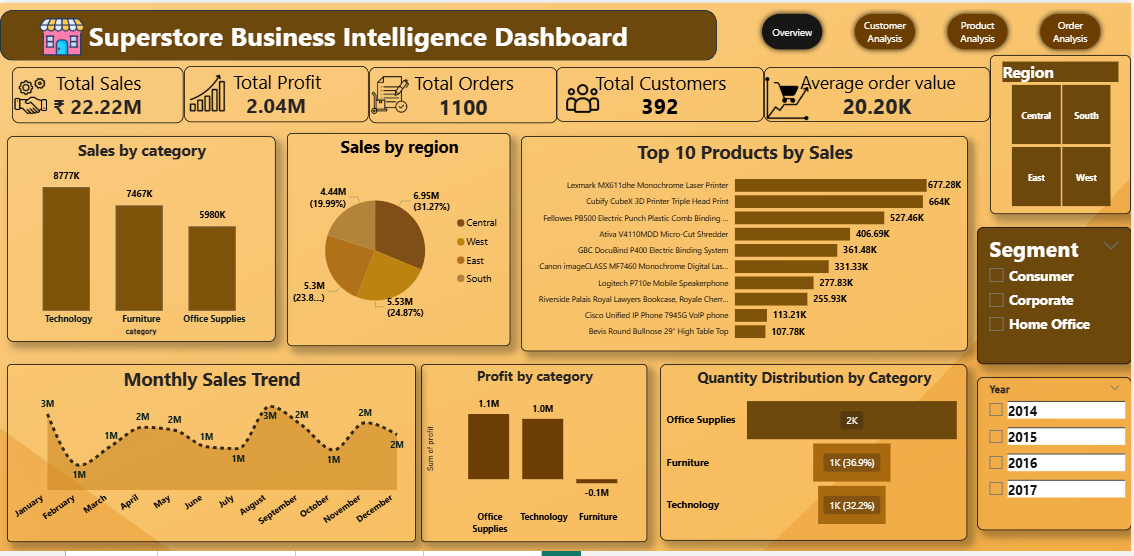

Layout of this report page (visuals, bound fields, positions):
{"tool":"powerbi","page":{"name":"Overview","canvas":[1550,750],"ordinal":0},"visuals":[{"type":"card","title":"Total Sales","fields":{"Values":["superstore orders_clean.Total_sales"]},"box":[16.7,88.3,235,76.7],"z":0},{"type":"card","title":"Total Profit","fields":{"Values":["superstore orders_clean.Total_Profit"]},"box":[251.7,86.7,253.3,76.7],"z":1000},{"type":"card","title":"Total Orders","fields":{"Values":["CountNonNull(superstore orders_clean.order_id)"]},"box":[505,88.3,258.3,76.7],"z":2000},{"type":"card","title":"Total Customers","fields":{"Values":["Count(superstore orders_clean.customer_id)"]},"box":[761.7,88.3,285,75],"z":3000},{"type":"clusteredColumnChart","title":" Sales by category","fields":{"Category":["superstore products_clean.category"],"Y":["Sum(superstore orders_clean.sales)"]},"box":[9.7,182.3,367.7,282.3],"z":4000},{"type":"lineChart","title":"Monthly Sales Trend","fields":{"Category":["superstore orders_clean.order_date.Variation.Date Hierarchy.Month"],"Y":["Sum(superstore orders_clean.sales)"]},"box":[9.7,495.2,559.7,243.5],"z":5000},{"type":"clusteredBarChart","title":"Top 10 Products by Sales","fields":{"Category":["superstore products_clean.product_name"],"Y":["Max(superstore orders_clean.sales)"]},"box":[713.3,181.7,611.7,295],"z":6000},{"type":"funnel","title":"Quantity Distribution by Category","fields":{"Y":["Sum(superstore orders_clean.quantity)"],"Category":["superstore products_clean.category"]},"box":[904.1,494.5,420.5,242.5],"z":7000},{"type":"shape","title":"Superstore Sales Dashboard","box":[0,9.7,982.3,69.4],"z":8000},{"type":"slicer","fields":{"Values":["superstore customers.region"]},"box":[1356.7,71.7,193.3,218.3],"z":9000},{"type":"slicer","fields":{"Values":["superstore customers.segment"]},"box":[1338.3,306.7,211.7,188.3],"z":10000},{"type":"image","box":[53.2,6.5,62.9,79],"z":11000},{"type":"slicer","fields":{"Values":["superstore orders_clean.order_date.Variation.Date Hierarchy.Year"]},"box":[1338.3,511.7,211.7,210],"z":12000},{"type":"card","title":"Average order value","fields":{"Values":["Avg(superstore orders_clean.sales)"]},"box":[1046.7,88.3,310,75],"z":13000},{"type":"pageNavigator","box":[1035,6.7,483.3,65],"z":14000},{"type":"image","box":[16.7,93.3,53.3,66.7],"z":15000},{"type":"image","box":[251.7,95,63.3,58.3],"z":16000},{"type":"pieChart","title":"Sales by region","fields":{"Category":["superstore customers.region"],"Y":["Sum(superstore orders_clean.sales)"]},"box":[393.5,177.4,306.5,291.9],"z":17000},{"type":"columnChart","title":"Profit by category","fields":{"Category":["superstore products_clean.category"],"Y":["Sum(superstore orders_clean.profit)"]},"box":[576.7,494.5,309.6,243.8],"z":18000},{"type":"image","box":[491.7,98.3,85,55],"z":19000},{"type":"image","box":[750,108.3,95,45],"z":20000},{"type":"image","box":[1016.7,95,123.3,73.3],"z":21000}]}

Visuals, with their boxes in screenshot pixels (x1, y1, x2, y2), scaled from the page's 1550x750 canvas onto the 1134x556 screenshot:
"Total Sales" card: [12, 65, 184, 122]
"Total Profit" card: [184, 64, 369, 121]
"Total Orders" card: [369, 65, 558, 122]
"Total Customers" card: [557, 65, 766, 121]
" Sales by category" clusteredColumnChart: [7, 135, 276, 344]
"Monthly Sales Trend" lineChart: [7, 367, 417, 548]
"Top 10 Products by Sales" clusteredBarChart: [522, 135, 969, 353]
"Quantity Distribution by Category" funnel: [661, 367, 969, 546]
"Superstore Sales Dashboard" shape: [0, 7, 719, 59]
slicer - superstore customers.region: [993, 53, 1133, 215]
slicer - superstore customers.segment: [979, 227, 1133, 367]
image: [39, 5, 85, 63]
slicer - superstore orders_clean.order_date.Variation.Date Hierarchy.Year: [979, 379, 1133, 535]
"Average order value" card: [766, 65, 993, 121]
pageNavigator: [757, 5, 1111, 53]
image: [12, 69, 51, 119]
image: [184, 70, 230, 114]
"Sales by region" pieChart: [288, 132, 512, 348]
"Profit by category" columnChart: [422, 367, 648, 547]
image: [360, 73, 422, 114]
image: [549, 80, 618, 114]
image: [744, 70, 834, 125]
